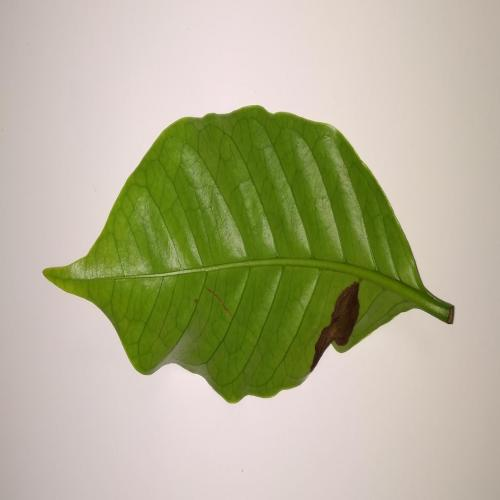miner: (307, 281, 359, 374)
